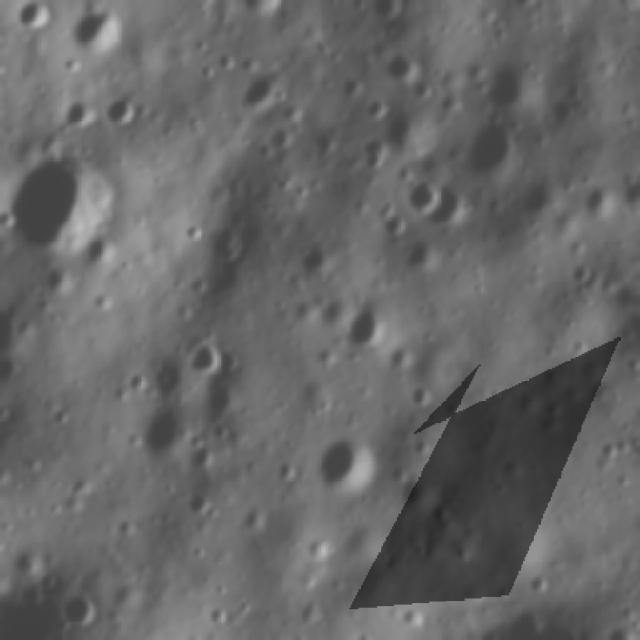crater: (0, 145, 118, 265), (310, 428, 382, 494), (137, 396, 197, 459), (472, 56, 534, 116), (462, 116, 523, 176), (339, 296, 399, 355), (512, 165, 565, 224), (230, 64, 293, 108), (75, 0, 120, 57), (58, 586, 111, 632), (395, 469, 443, 514), (397, 175, 445, 219), (433, 181, 478, 227), (78, 228, 128, 267), (186, 335, 228, 379), (10, 0, 64, 34), (203, 379, 246, 421), (380, 49, 422, 88), (572, 184, 616, 221), (104, 88, 142, 130), (62, 92, 100, 132), (350, 92, 388, 128), (408, 379, 443, 418), (308, 120, 344, 155), (353, 136, 393, 167), (225, 0, 289, 18), (615, 168, 640, 212), (364, 0, 408, 25), (265, 123, 303, 151), (334, 70, 364, 98), (178, 218, 204, 242), (493, 0, 544, 9), (634, 251, 640, 277)
